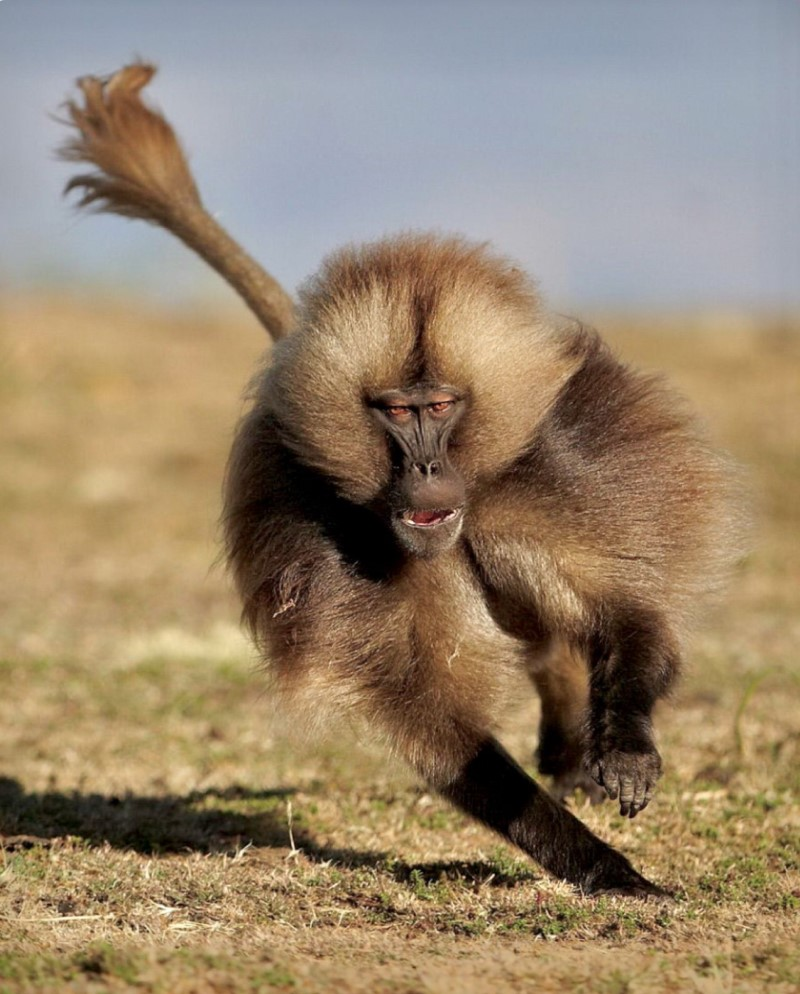Gelada: (256, 249, 713, 882)
